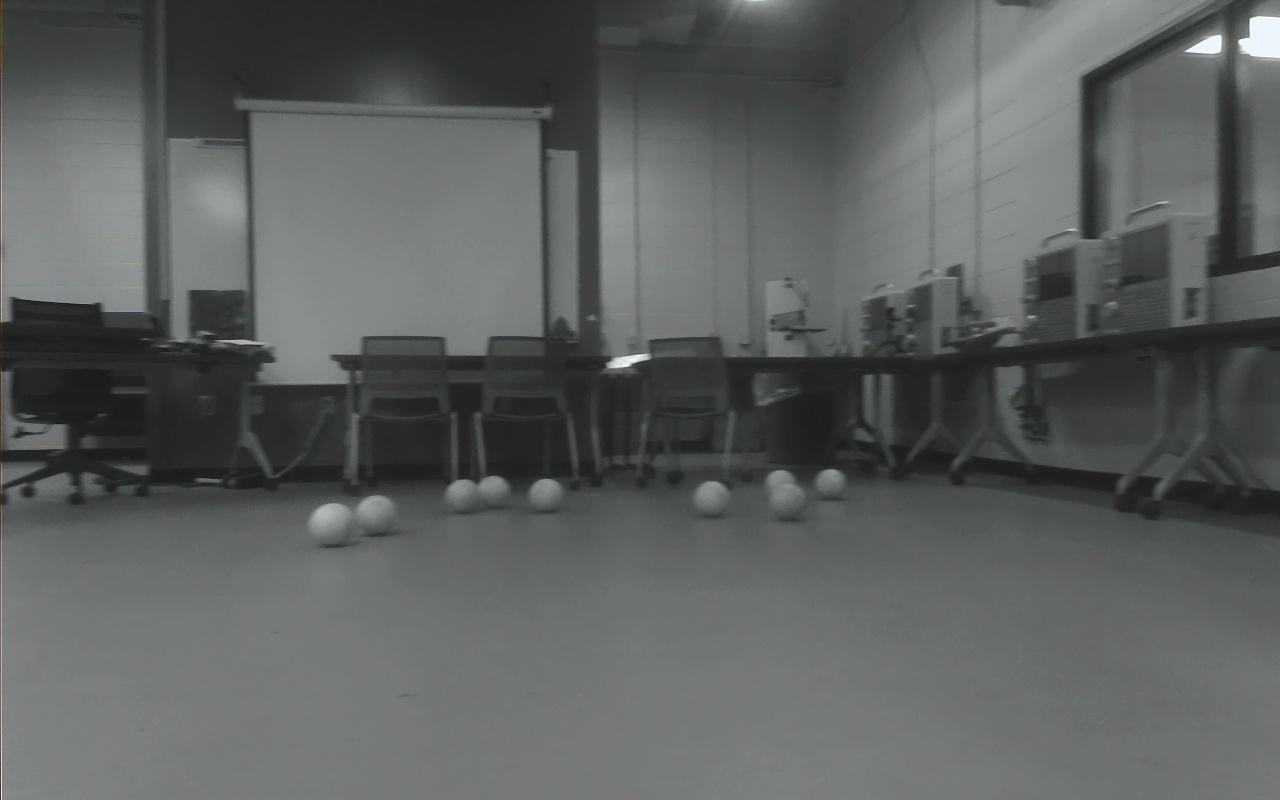Fuel: (308, 502, 355, 547), (356, 494, 398, 536), (769, 482, 808, 521), (694, 480, 731, 518), (445, 478, 480, 514), (529, 478, 564, 513), (477, 475, 511, 509), (814, 468, 846, 500), (764, 469, 797, 498)
